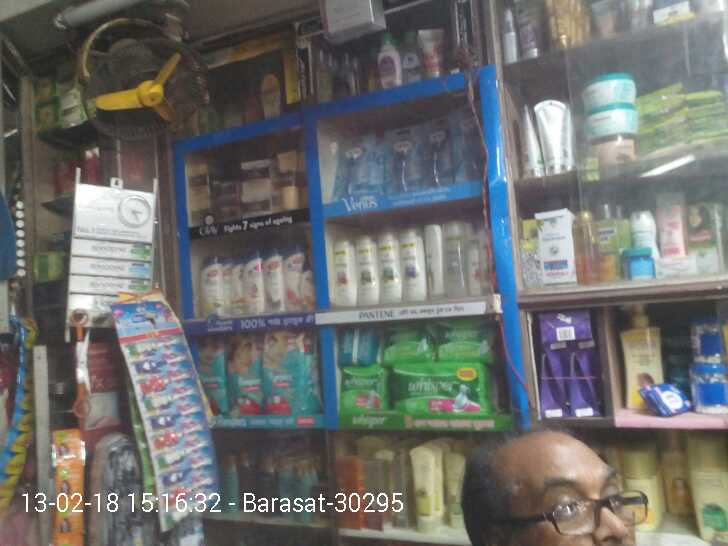venus: (333, 138, 381, 189), (381, 124, 418, 189), (418, 124, 455, 185), (455, 102, 481, 185)
